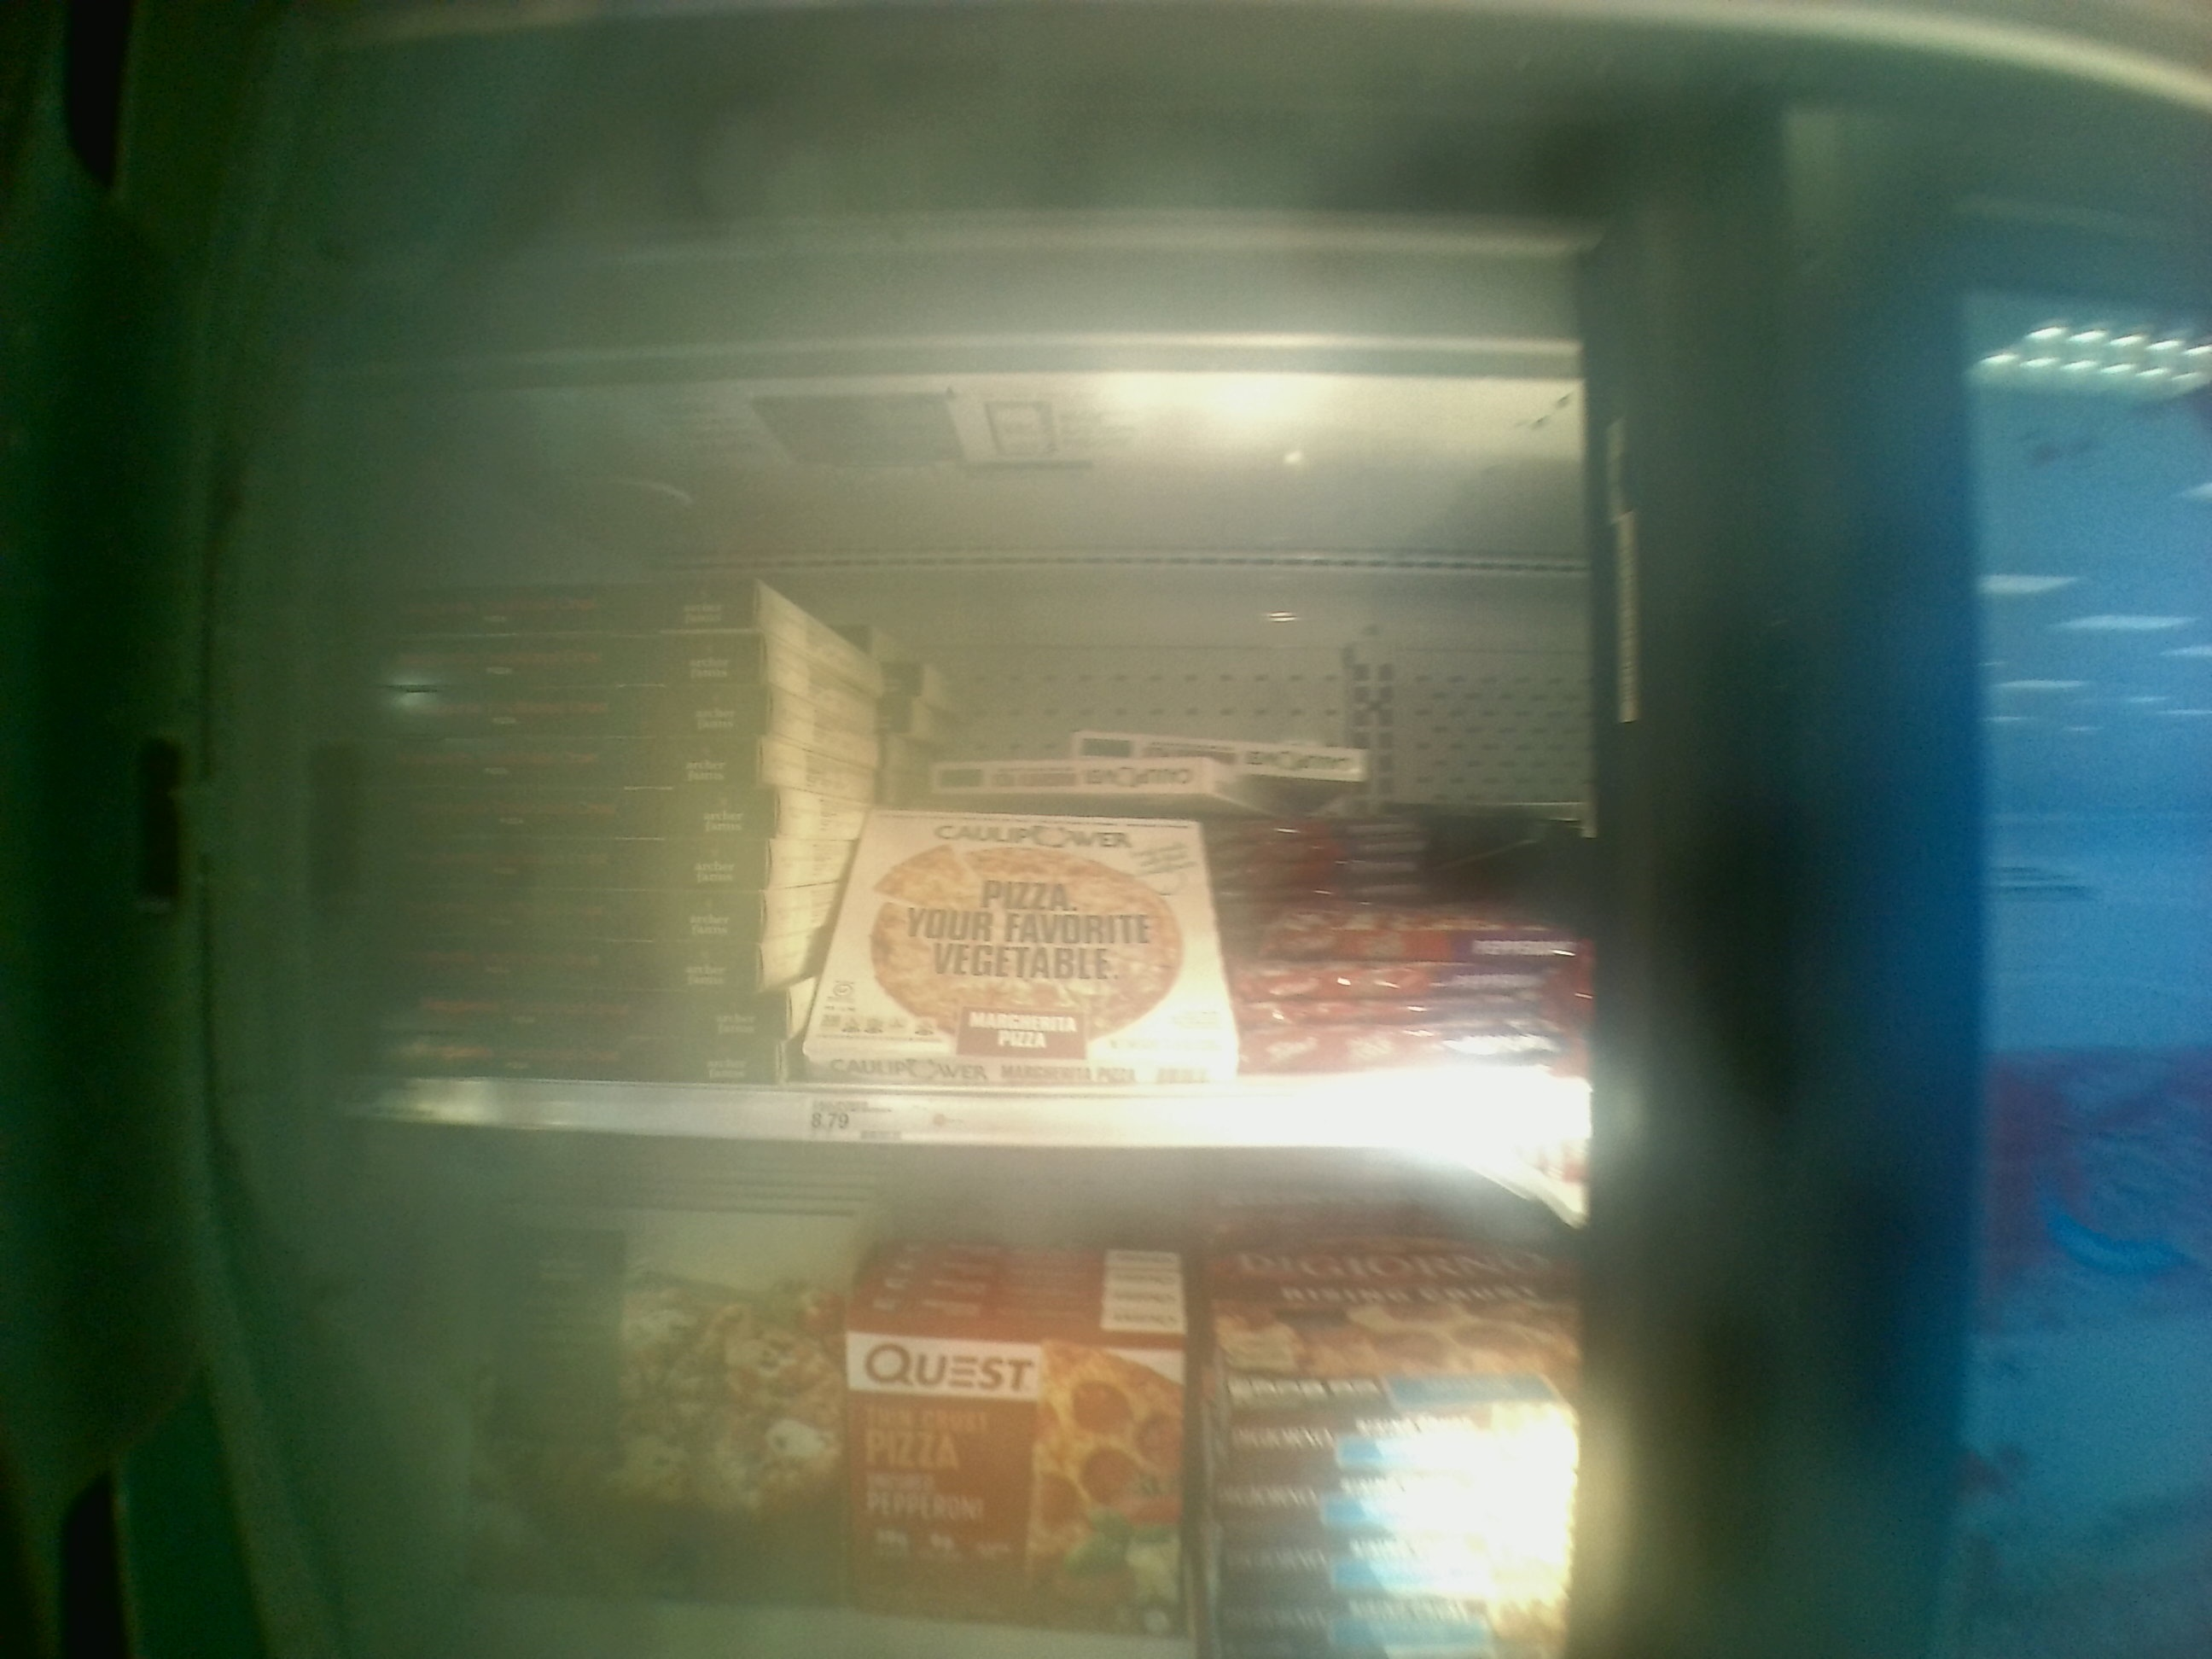shelf: (303, 336, 1622, 1155)
